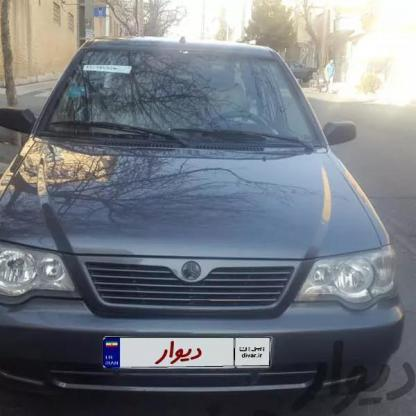Car: (0, 23, 410, 412)
